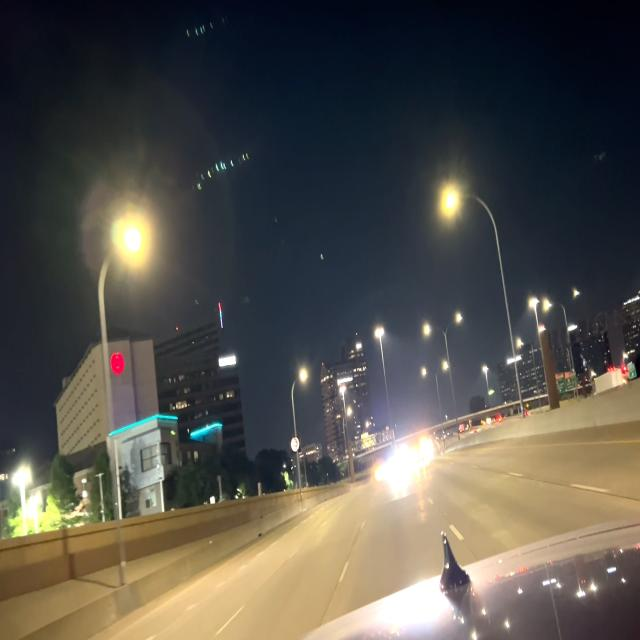back-of-sign: (361, 429, 377, 451), (381, 424, 395, 446)
